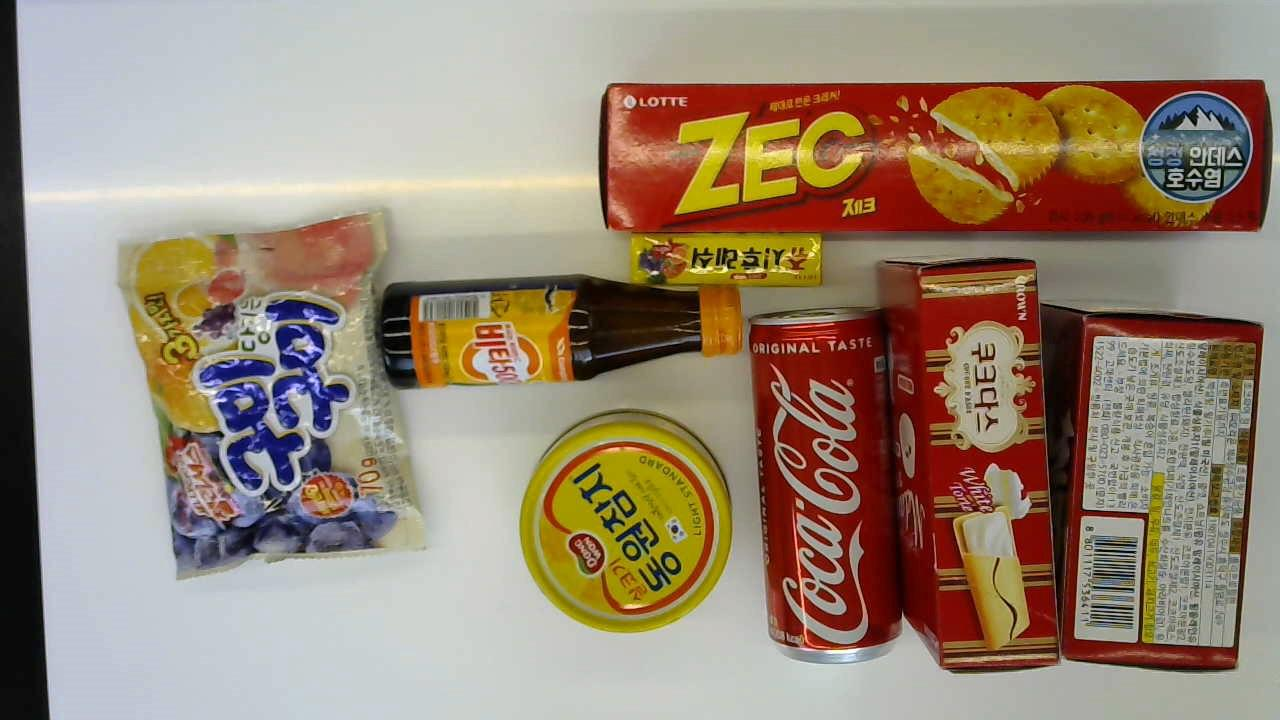chocopie: (1042, 300, 1266, 675)
coke: (750, 301, 909, 663)
couque_white: (876, 252, 1064, 675)
gumi_gumi: (117, 204, 429, 581)
juicyfresh: (629, 231, 824, 287)
tuna: (518, 413, 734, 632)
vita500: (379, 278, 746, 385)
zec: (600, 81, 1272, 232)
